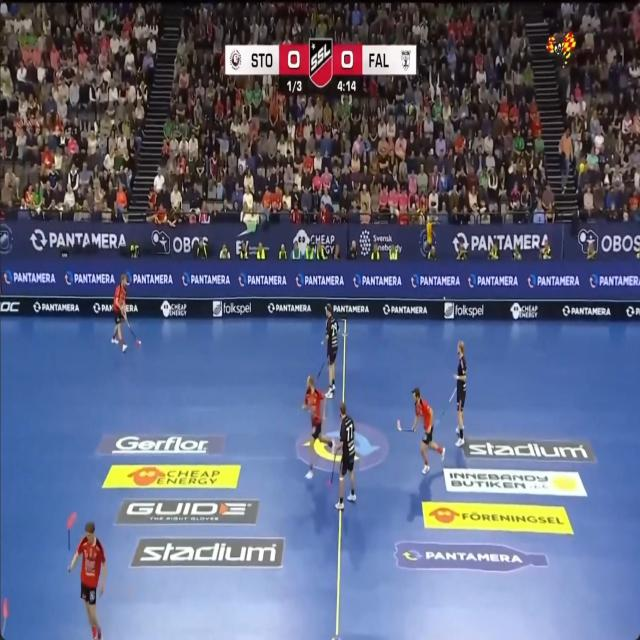player: (68, 521, 106, 639), (302, 376, 335, 478), (412, 387, 445, 474), (335, 401, 356, 509), (454, 341, 467, 447), (111, 273, 127, 352), (325, 304, 338, 398)
stick: (434, 389, 456, 426), (67, 512, 77, 550), (328, 449, 337, 485), (0, 597, 8, 637), (397, 419, 412, 431), (316, 360, 325, 379), (127, 319, 133, 331), (67, 529, 70, 550), (132, 333, 136, 341)
